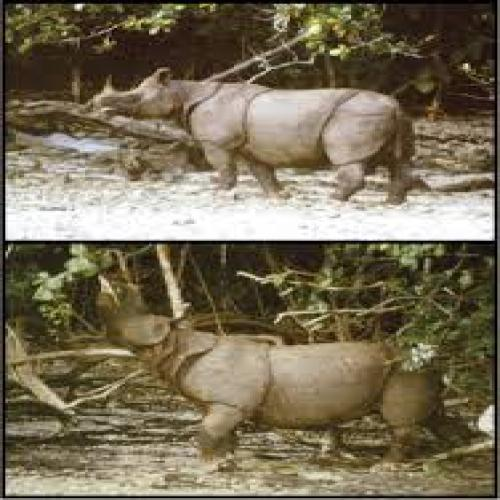rhino-endangered: (99, 300, 451, 464), (95, 69, 422, 206)
